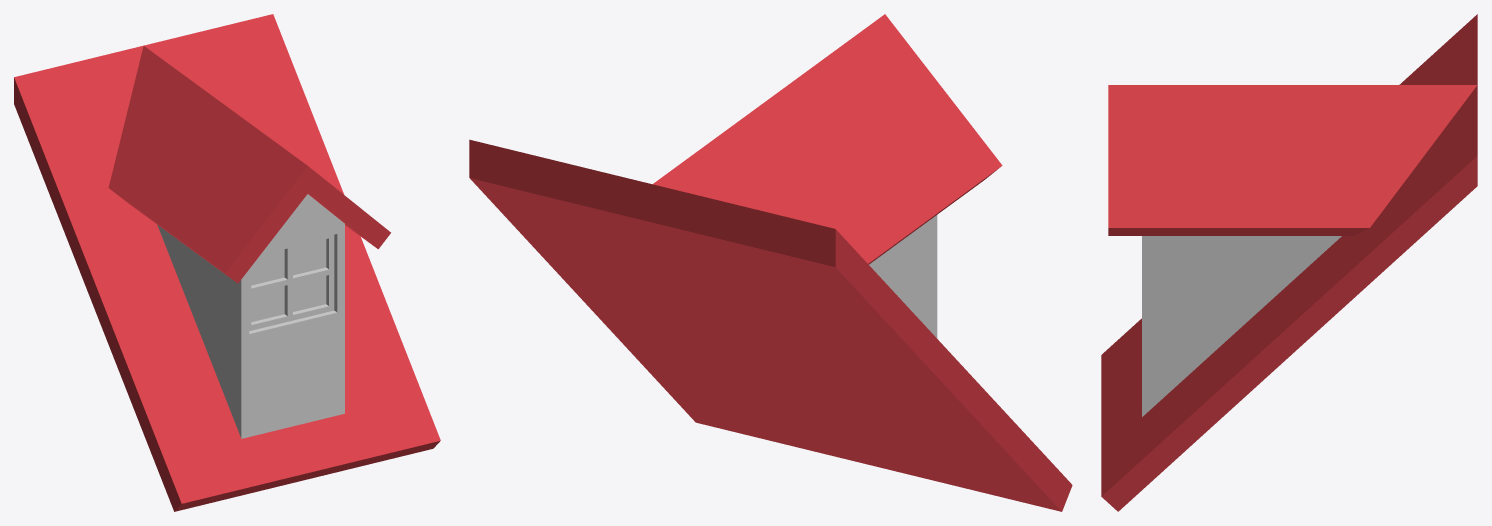
The model's file is roof_dormer2.glb.
The picture shows the model from 3 angles, left to right: view 1: azimuth 30°, elevation 25°; view 2: azimuth 150°, elevation 25°; view 3: azimuth 270°, elevation 25°; orthographic projection. The views are drawn at different scales.
Parts seen in each view (by area): view 1: roof_dormer2; view 2: roof_dormer2; view 3: roof_dormer2.
Part boxes in pixels (x1,y1,x2,y2): roof_dormer2: (14, 14, 440, 511); roof_dormer2: (469, 14, 1072, 511); roof_dormer2: (1101, 14, 1477, 511).
Bounding box in the file's own units: 1 × 1.17 × 1.12.
